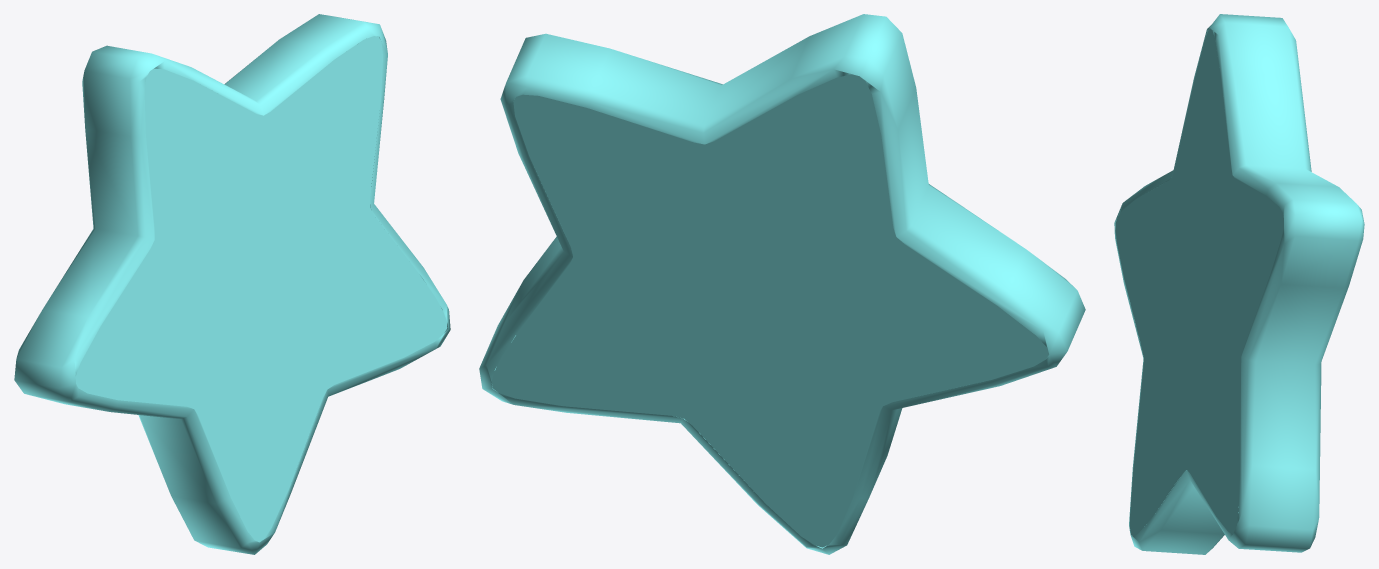
Rendered from star.glb.
3 renders of one model, left to right at view 1: azimuth 30°, elevation 25°; view 2: azimuth 150°, elevation 25°; view 3: azimuth 270°, elevation 25°, orthographic. The views are drawn at different scales.
Parts seen in each view (by area): view 1: Circle.013; view 2: Circle.013; view 3: Circle.013.
Part boxes in pixels (box(x1,y1,x2,y2)): Circle.013: box(14, 14, 450, 554); Circle.013: box(479, 14, 1085, 554); Circle.013: box(1114, 14, 1364, 554).
Bounding box in the file's own units: 0.2163 × 0.2188 × 0.098.
